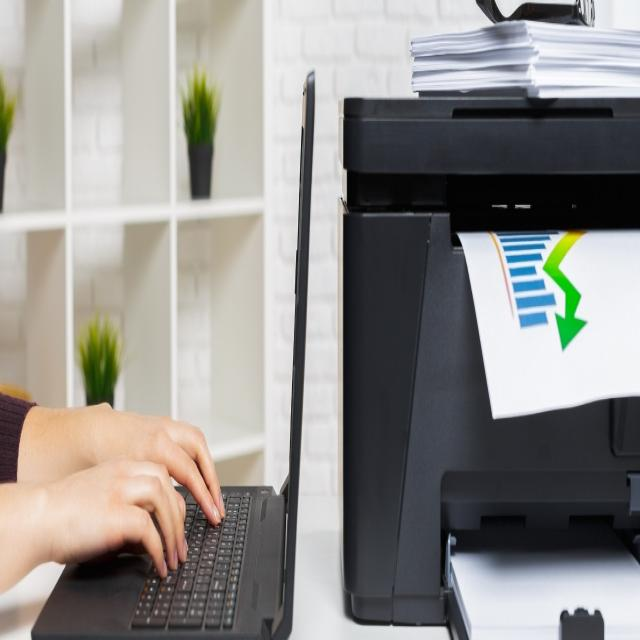printer: (336, 88, 639, 636)
